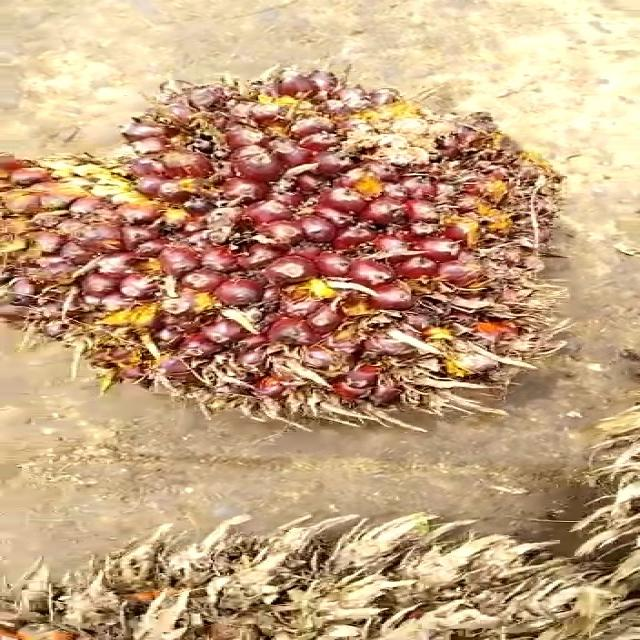palm oil: (0, 64, 580, 434)
